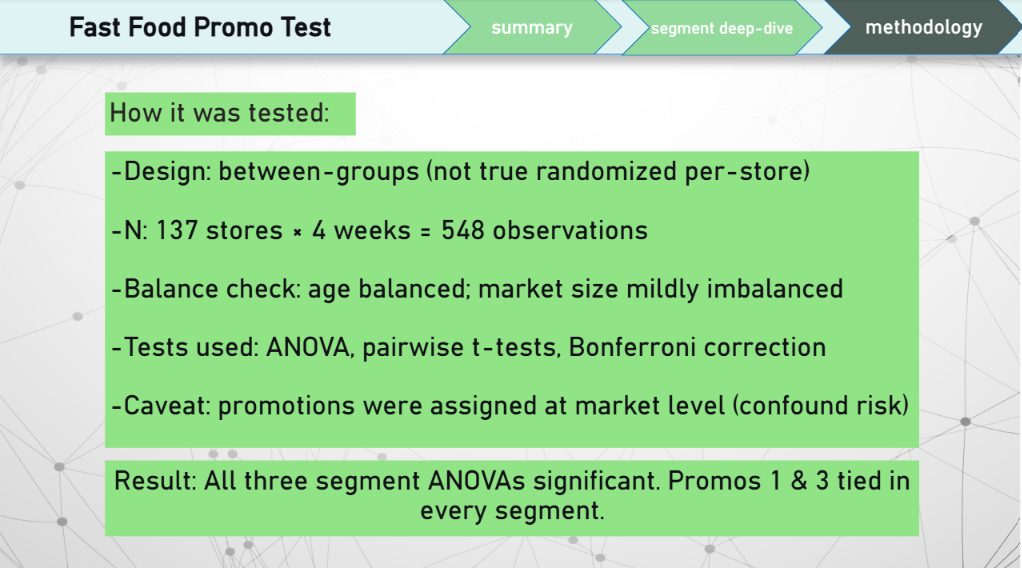

This screenshot's page, from the dashboard's own definition file:
{"tool":"powerbi","page":{"name":"methodology","canvas":[1280,720],"ordinal":2},"visuals":[{"type":"image","box":[0,0,1280,720],"z":0},{"type":"textbox","box":[135.4,190.6,1012.9,368.6],"z":1000},{"type":"textbox","box":[135.4,574.9,1012.9,94.3],"z":2000},{"type":"shape","box":[0,0,1280,70],"z":3000},{"type":"textbox","box":[0,11.7,508.3,48.3],"z":4000},{"type":"shape","box":[777.1,1.4,251.4,70],"z":5000},{"type":"shape","box":[1028.6,0,251.4,70],"z":6000},{"type":"shape","box":[1028.6,0,251.4,70],"z":7000},{"type":"shape","box":[554.3,0,224.3,70],"z":8000},{"type":"textbox","box":[135,116.7,311.7,53.3],"z":8001}]}

Visuals, with their boxes in screenshot pixels (x1, y1, x2, y2), scaled from the page's 1280x720 canvas onto the 1022x568 screenshot:
image: x1=0, y1=0, x2=1021, y2=567
textbox: x1=108, y1=150, x2=917, y2=441
textbox: x1=108, y1=454, x2=917, y2=528
shape: x1=0, y1=0, x2=1021, y2=55
textbox: x1=0, y1=9, x2=406, y2=47
shape: x1=620, y1=1, x2=821, y2=56
shape: x1=821, y1=0, x2=1021, y2=55
shape: x1=821, y1=0, x2=1021, y2=55
shape: x1=443, y1=0, x2=622, y2=55
textbox: x1=108, y1=92, x2=357, y2=134
